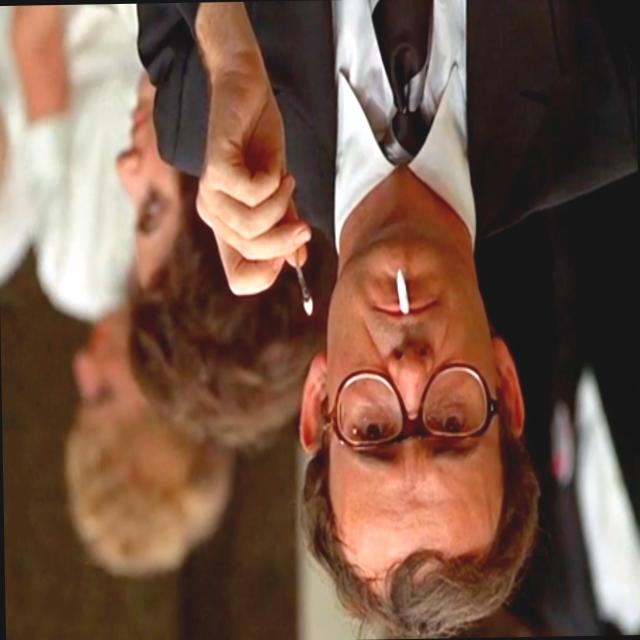cigarette: (390, 257, 418, 326)
